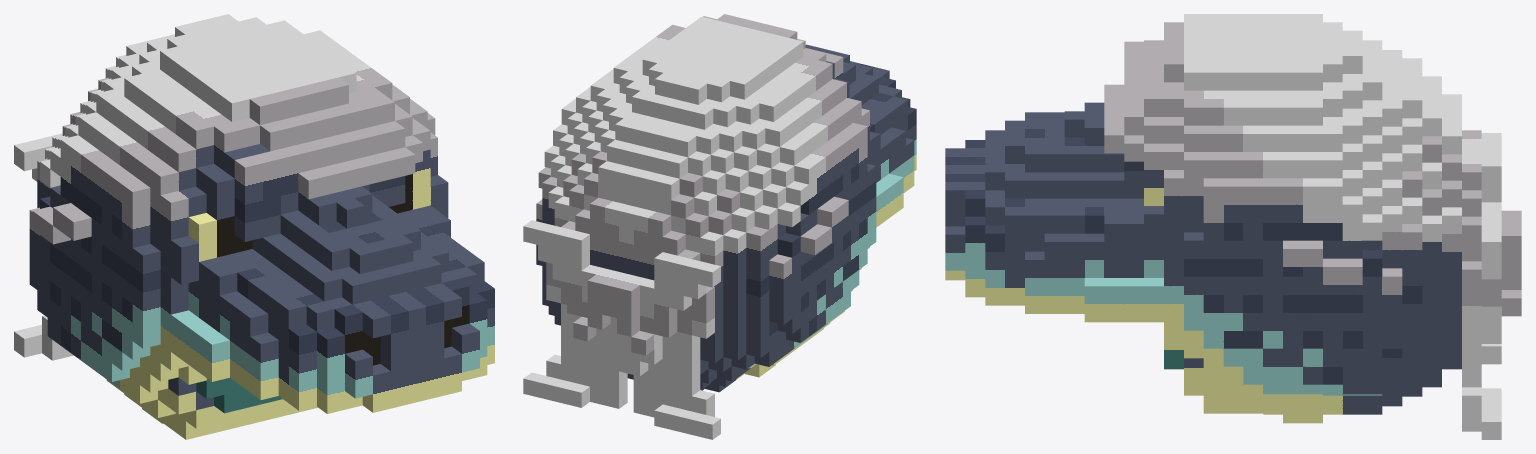
The model's file is blue durag_eye patch.gltf.
3 renders of one model, left to right at view 1: azimuth 30°, elevation 25°; view 2: azimuth 150°, elevation 25°; view 3: azimuth 270°, elevation 25°, orthographic. The views are drawn at different scales.
Parts seen in each view (by area): view 1: C17_H_Durag_EyeP-Mesh; view 2: C17_H_Durag_EyeP-Mesh; view 3: C17_H_Durag_EyeP-Mesh.
Part boxes in pixels (left/top/right/bottom): C17_H_Durag_EyeP-Mesh: left=14, top=14, right=494, bottom=439; C17_H_Durag_EyeP-Mesh: left=523, top=14, right=916, bottom=439; C17_H_Durag_EyeP-Mesh: left=945, top=14, right=1521, bottom=439.
Bounding box in the file's own units: 19 × 19 × 29.
Materials: 1 (1 with a texture image).
